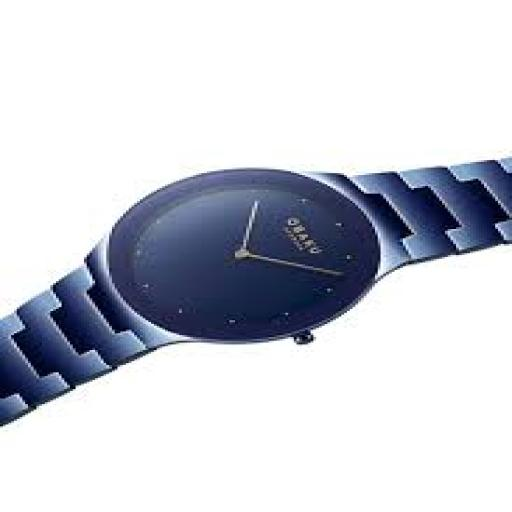KolSaati: (0, 136, 512, 432)
